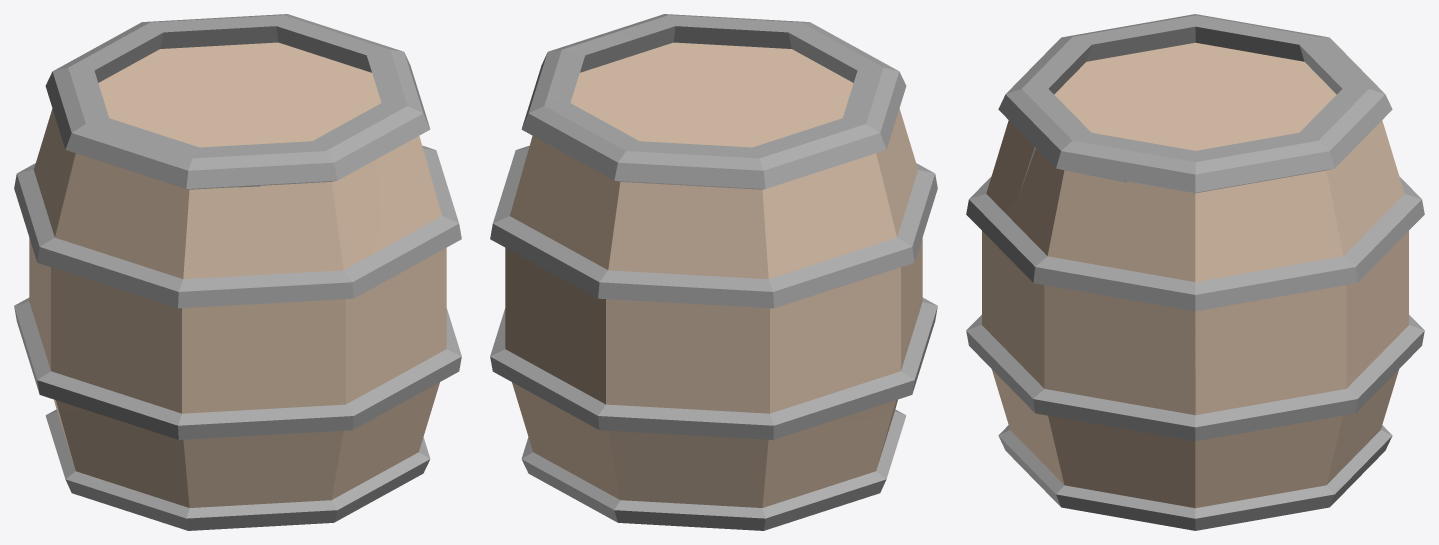
File: Tonneau_1_Fractured.FBX
The picture shows the model from 3 angles, left to right: view 1: azimuth 30°, elevation 25°; view 2: azimuth 150°, elevation 25°; view 3: azimuth 270°, elevation 25°; orthographic projection.
Parts seen in each view (by area): view 1: Cylinder001_cell.017, Cylinder001, Cylinder001_cell.010, Cylinder001_cell.015, Cylinder001_cell.001, Cylinder001_cell, Cylinder001_cell.007, Cylinder001_cell.012, Cylinder001_cell.004, Cylinder001_cell.008, Cylinder001_cell.011, Cylinder001_cell.009 (+3 smaller); view 2: Cylinder001, Cylinder001_cell.012, Cylinder001_cell.001, Cylinder001_cell.011, Cylinder001_cell.007, Cylinder001_cell.019, Cylinder001_cell.004, Cylinder001_cell.008, Cylinder001_cell.013, Cylinder001_cell.003, Cylinder001_cell.010, Cylinder001_cell.002 (+3 smaller); view 3: Cylinder001, Cylinder001_cell, Cylinder001_cell.008, Cylinder001_cell.013, Cylinder001_cell.017, Cylinder001_cell.007, Cylinder001_cell.009, Cylinder001_cell.012, Cylinder001_cell.004, Cylinder001_cell.016, Cylinder001_cell.015, Cylinder001_cell.001 (+1 smaller).
Part boxes in pixels (box(x1,y1,x2,y2)): Cylinder001_cell.017: box(106, 345, 438, 530); Cylinder001: box(14, 14, 458, 527); Cylinder001_cell.010: box(122, 165, 272, 379); Cylinder001_cell.015: box(254, 106, 384, 346); Cylinder001_cell.001: box(27, 99, 195, 383); Cylinder001_cell: box(323, 176, 461, 388); Cylinder001_cell.007: box(98, 15, 285, 108); Cylinder001_cell.012: box(17, 45, 245, 216); Cylinder001_cell.004: box(127, 113, 261, 207); Cylinder001_cell.008: box(261, 30, 444, 176); Cylinder001_cell.011: box(21, 302, 121, 415); Cylinder001_cell.009: box(376, 85, 433, 223); Cylinder001: box(490, 14, 937, 530); Cylinder001_cell.012: box(687, 101, 833, 299); Cylinder001_cell.001: box(767, 98, 928, 320); Cylinder001_cell.011: box(688, 290, 926, 423); Cylinder001_cell.007: box(543, 98, 714, 287); Cylinder001_cell.019: box(690, 400, 896, 523); Cylinder001_cell.004: box(728, 45, 898, 136); Cylinder001_cell.008: box(508, 57, 700, 174); Cylinder001_cell.013: box(490, 99, 576, 358); Cylinder001_cell.003: box(512, 292, 687, 420); Cylinder001_cell.010: box(891, 71, 937, 295); Cylinder001_cell.002: box(716, 421, 863, 467); Cylinder001: box(975, 15, 1424, 530); Cylinder001_cell: box(977, 200, 1203, 473); Cylinder001_cell.008: box(1120, 116, 1300, 371); Cylinder001_cell.013: box(1198, 138, 1385, 469); Cylinder001_cell.017: box(966, 280, 1210, 530); Cylinder001_cell.007: box(1185, 63, 1421, 216); Cylinder001_cell.009: box(1018, 118, 1129, 243); Cylinder001_cell.012: box(1182, 25, 1356, 109); Cylinder001_cell.004: box(1034, 25, 1183, 104); Cylinder001_cell.016: box(1126, 138, 1302, 187); Cylinder001_cell.015: box(966, 63, 1183, 239); Cylinder001_cell.001: box(1134, 14, 1256, 84).
Bounding box in the file's own units: 79.19 × 70 × 79.19.
